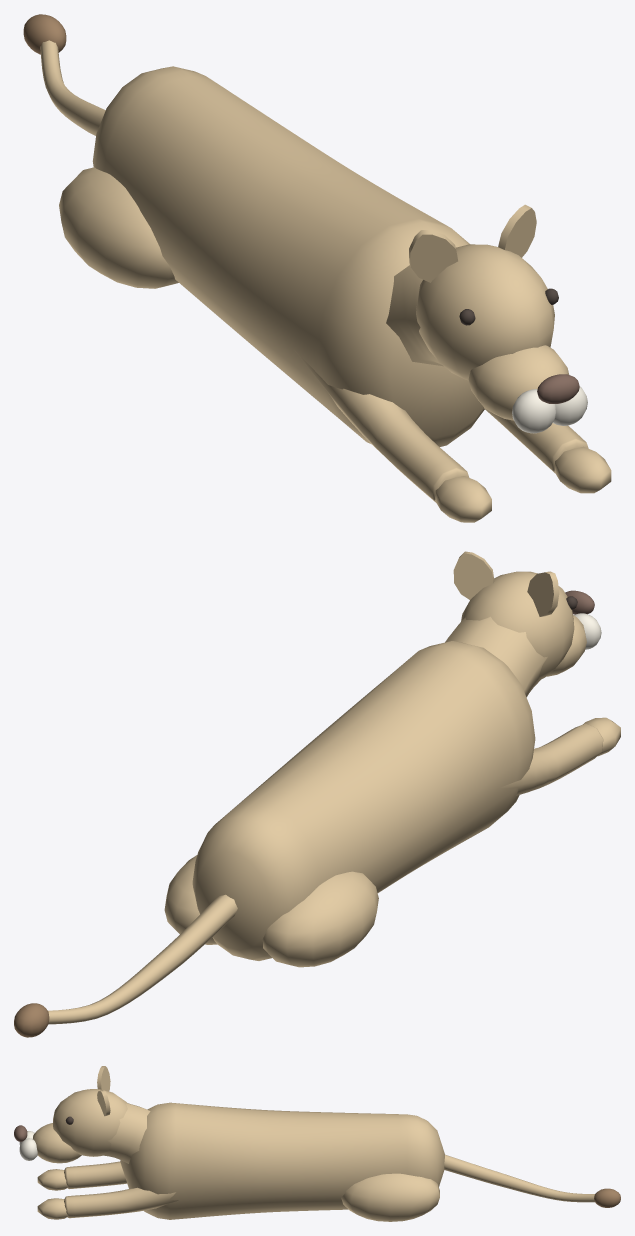
The model's file is savanna-wildlife-lioness-lying-eb9fd0d5__6564.glb.
3 renders of one model, top to bottom at view 1: azimuth 30°, elevation 25°; view 2: azimuth 150°, elevation 25°; view 3: azimuth 270°, elevation 25°, orthographic. The views are drawn at different scales.
Parts seen in each view (by area): view 1: lioness-lying; view 2: lioness-lying; view 3: lioness-lying.
Boxes of the visible parts, x1=… form: lioness-lying: x1=23, y1=14, x2=611, y2=522; lioness-lying: x1=14, y1=551, x2=620, y2=1037; lioness-lying: x1=14, y1=1066, x2=620, y2=1221.
Bounding box in the file's own units: 0.7539 × 0.8938 × 3.58.
